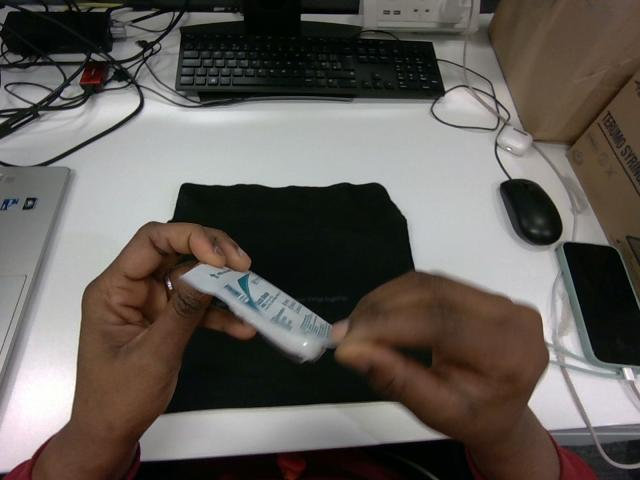gauze: (181, 264, 334, 361)
